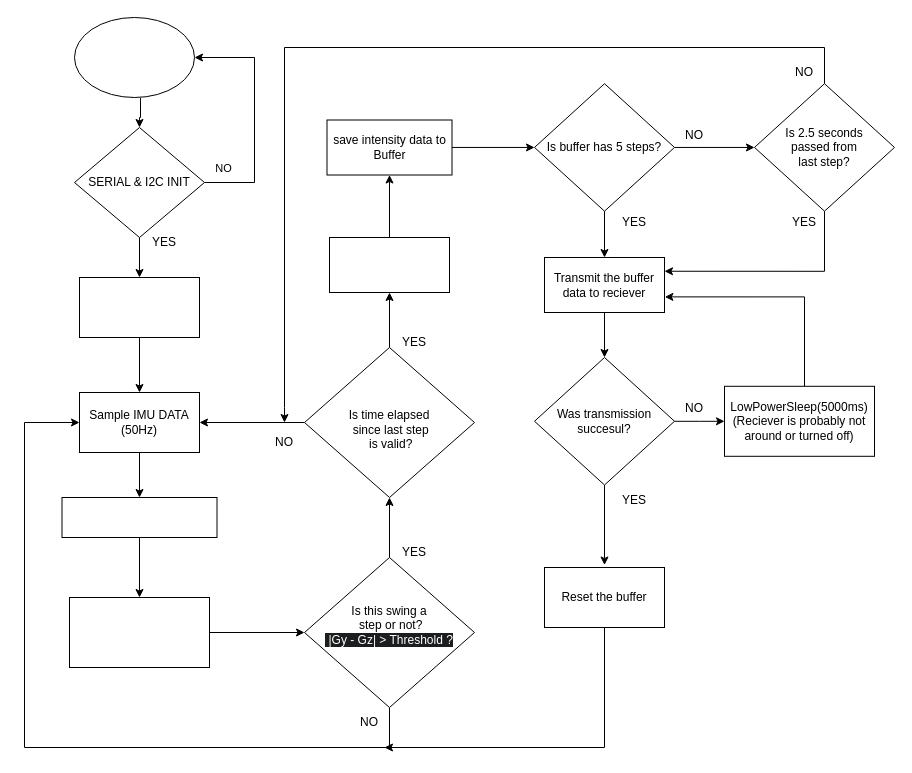
Some shapes in this 912 by 773 pixel diagram are drawn without their labels. Each missing label, with the centre of its shape:
calculate leg swing speed in realtime using |Gy - Gz|: point (139, 632)
LowPowerSleep(18ms): point (139, 517)
SENSOR CONFIGURATION: point (139, 307)
START: point (134, 57)
stepCount++: point (389, 264)
